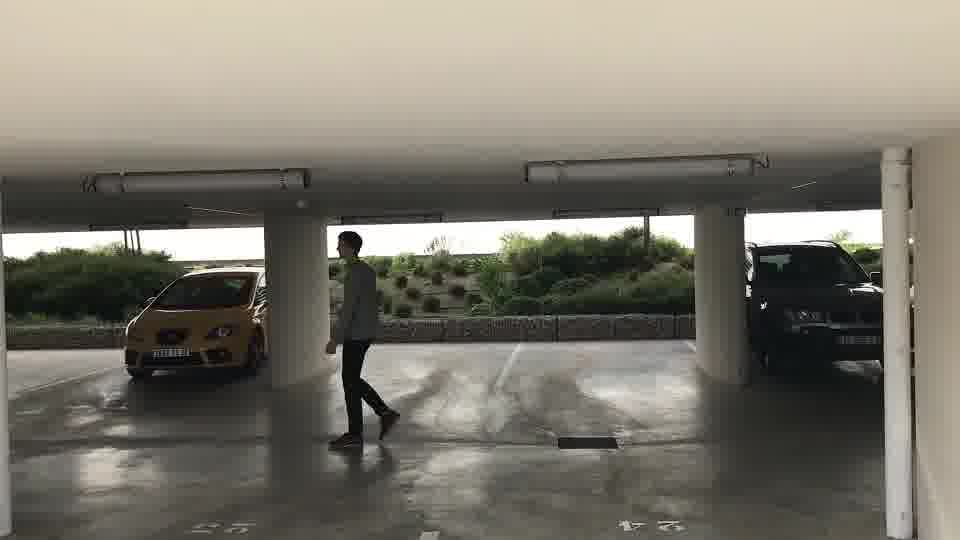jugador: (319, 225, 409, 462)
